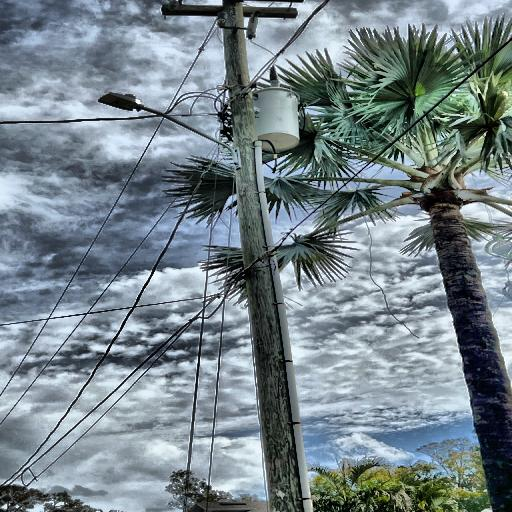pole: (219, 0, 325, 512)
street light: (93, 88, 244, 172)
transformer: (251, 84, 302, 154)
